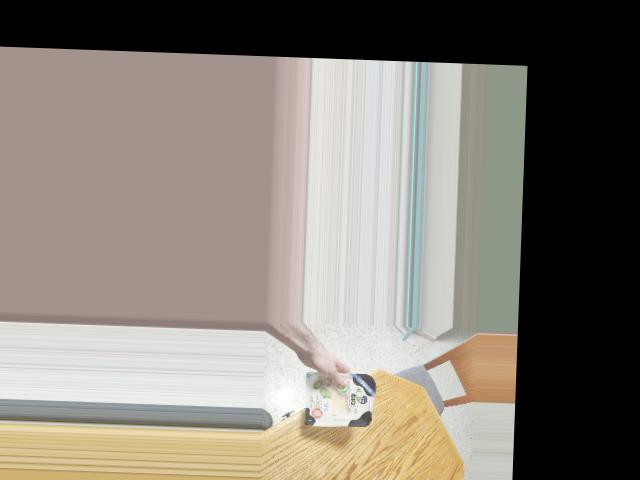cheese: (300, 367, 376, 427)
